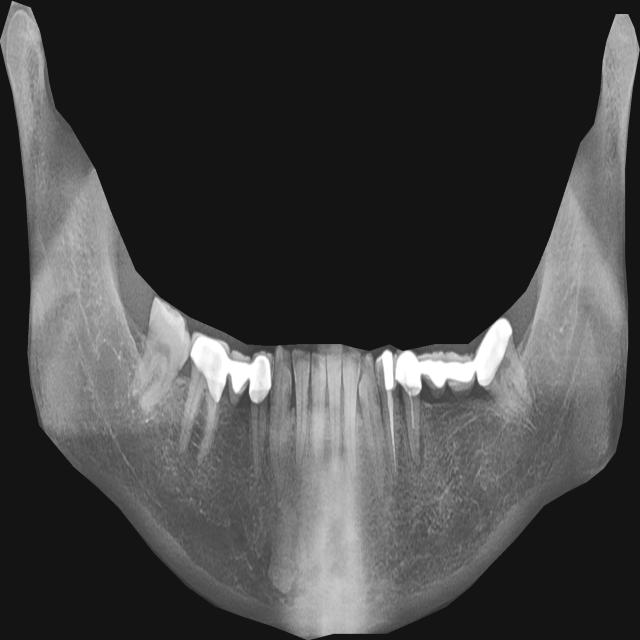mandibula: (0, 1, 640, 640)
